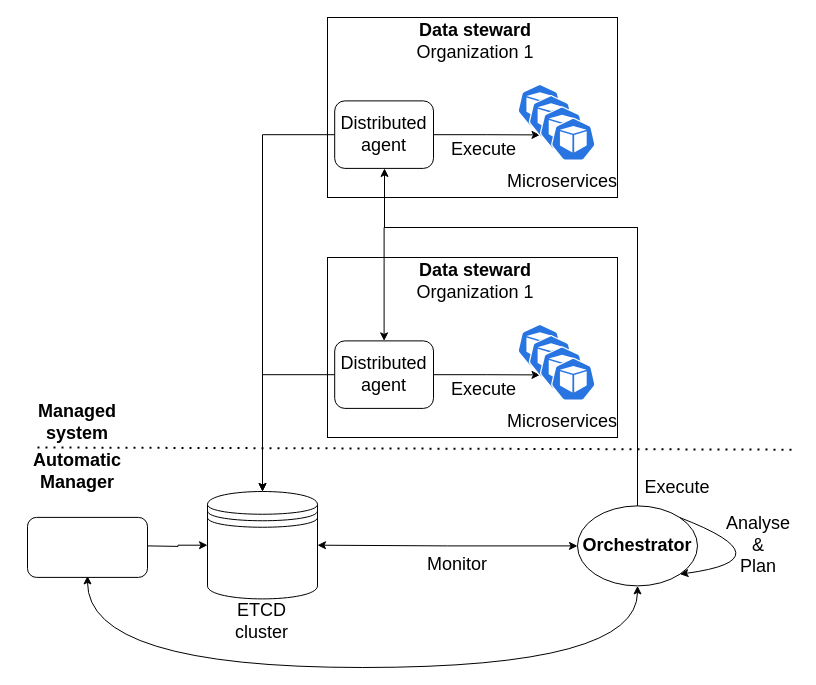
Image size: 816x685. Some labels were removed from this diagram. The shapes that lost their labels are listed below. From the top down, each one's centre as x and y in pixels, then its label:
At pixel 87 546: "Reasoner".
At pixel 262 544: "Knowledge base".
